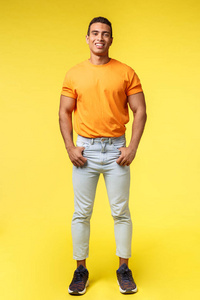up: (52, 11, 150, 295)
